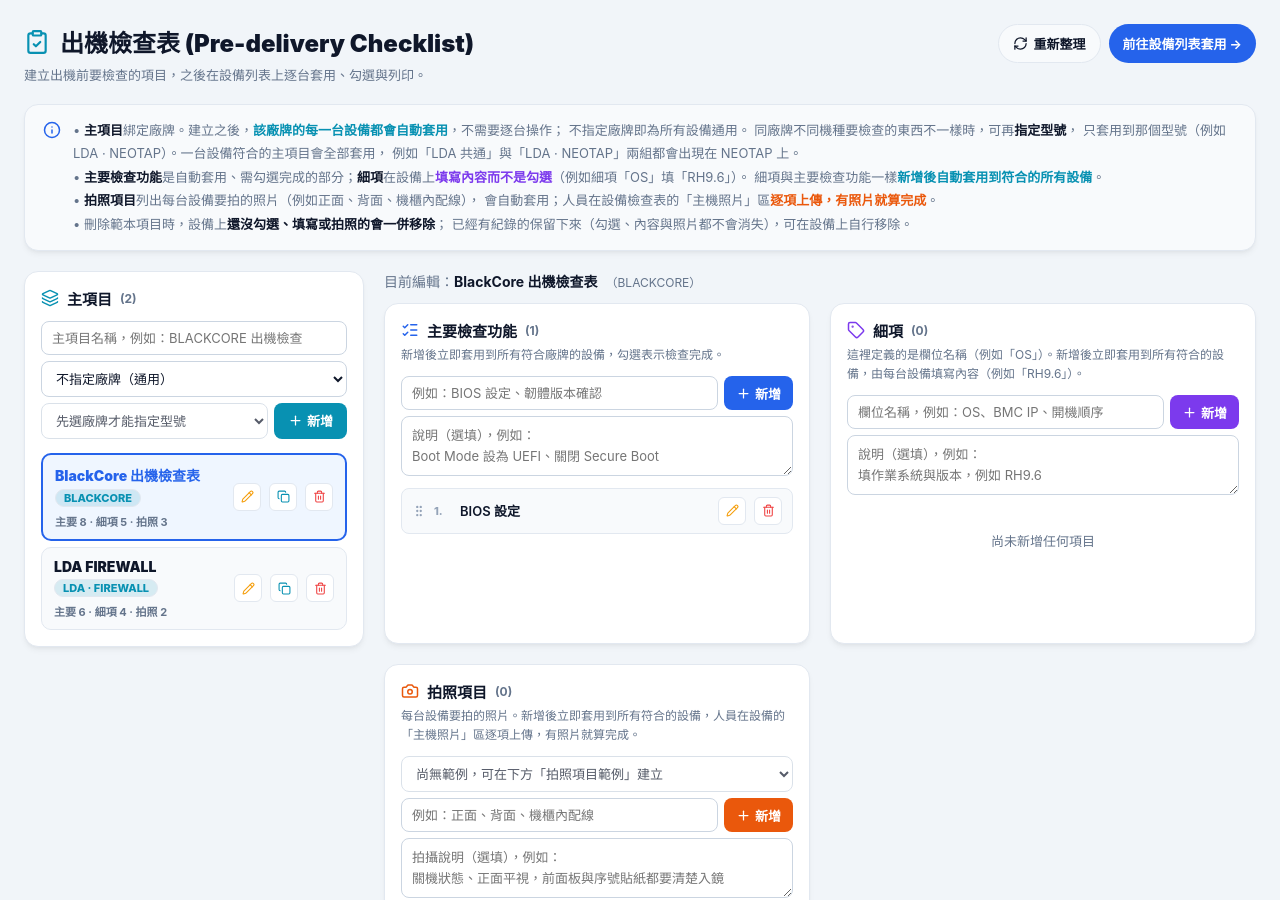
Scenario: 範本頁上複製 › 可以在視窗裡改選要複製的主項目
The image size is (1280, 900).
Expected: the text "BIOS 設定" is shown, [460,503,520,519]
Click the button named "複製主項目 BlackCore 出機檢查表" at coordinates (283, 497), box [269,483,297,511]
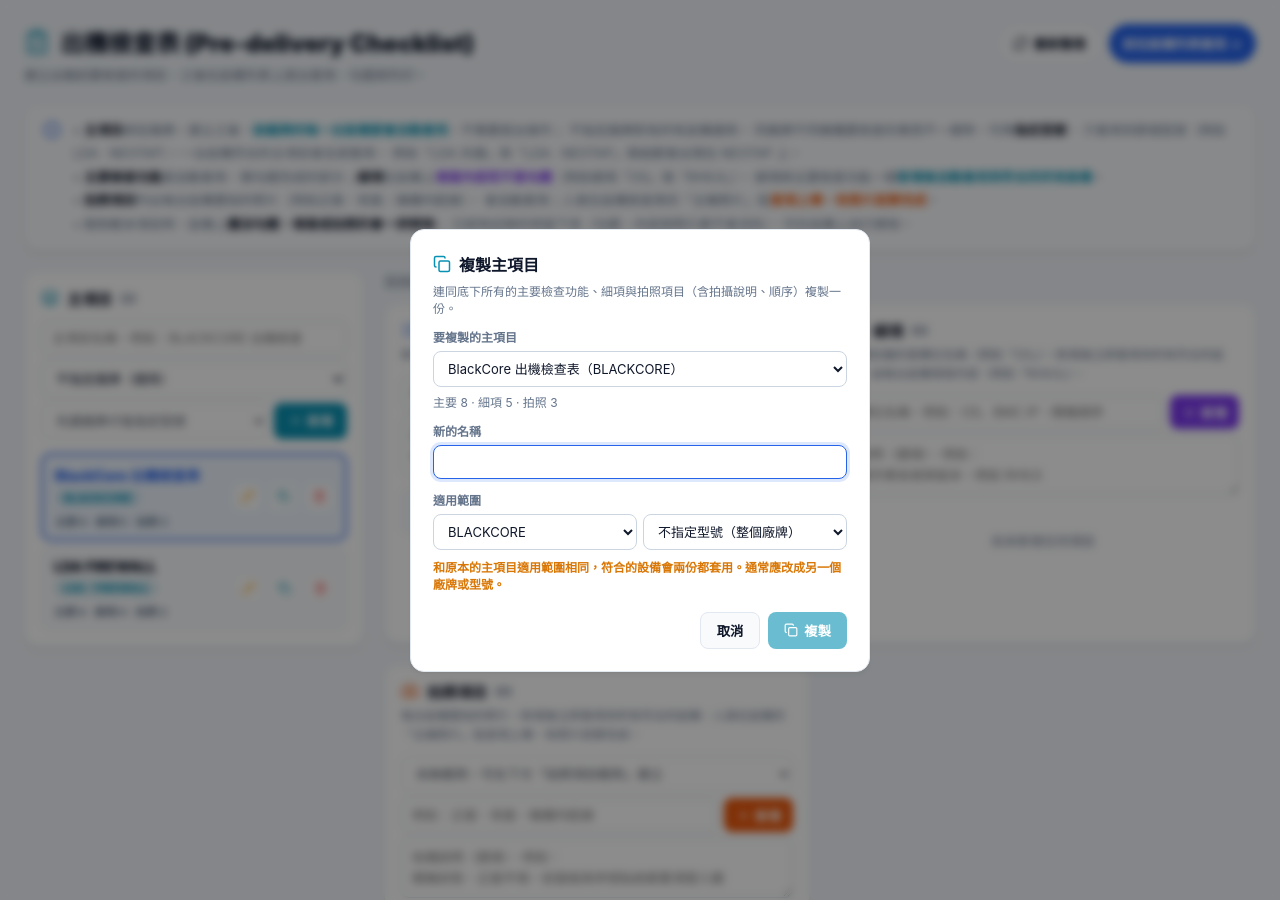
Select "LDA FIREWALL（LDA · FIREWALL）" in the dropdown labelled "要複製的主項目" at coordinates (640, 368), box [433,350,847,386]
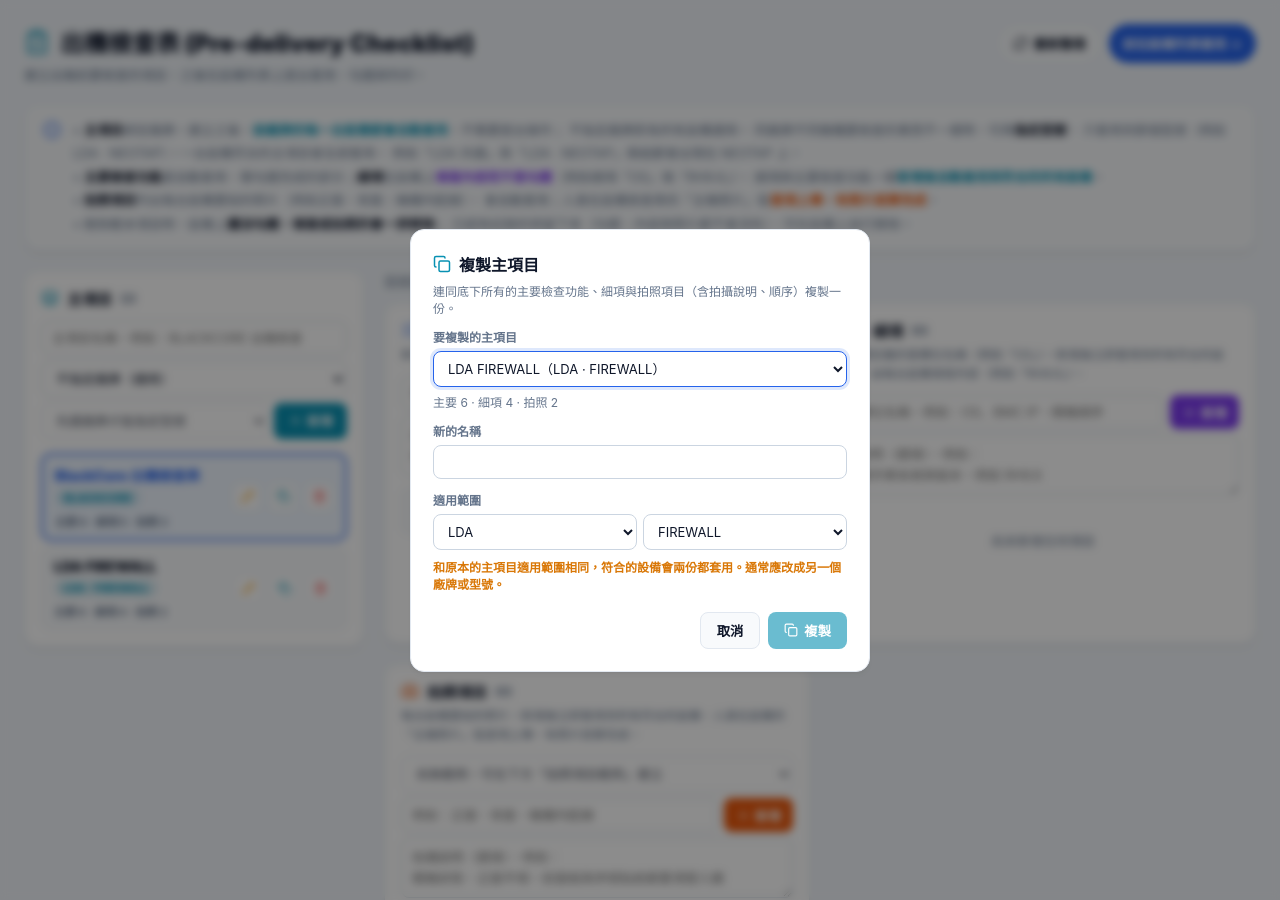
Expected: the text with test id "copy-group-counts" shows "主要 6", [433,394,558,410]
Expected: the dropdown named "複製後適用廠牌" shows "LDA", [433,514,637,550]
